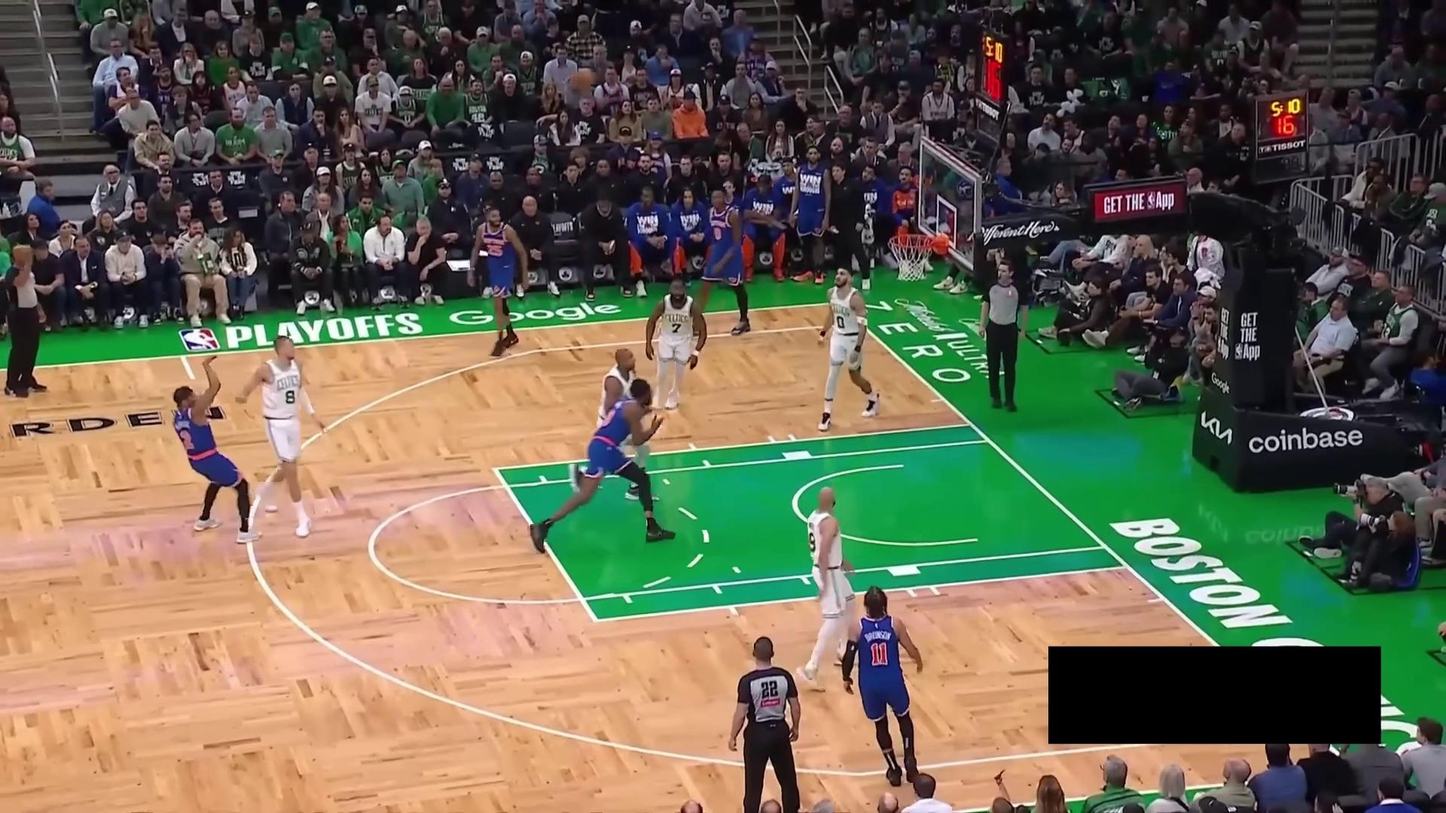ball: (572, 68, 594, 90)
number: (869, 641, 889, 667), (179, 429, 194, 449), (283, 388, 297, 406), (834, 314, 847, 331), (487, 244, 503, 257), (670, 321, 682, 334), (808, 531, 815, 551), (713, 227, 721, 241)
player: (528, 379, 678, 556), (233, 333, 328, 541), (172, 352, 264, 546), (840, 584, 924, 787), (567, 347, 661, 503), (796, 485, 859, 694), (816, 264, 881, 432), (467, 204, 530, 358), (694, 187, 754, 336), (645, 277, 709, 412)
referee: (728, 635, 803, 813), (978, 254, 1030, 413), (1, 242, 50, 398)
rim: (888, 232, 935, 250)
